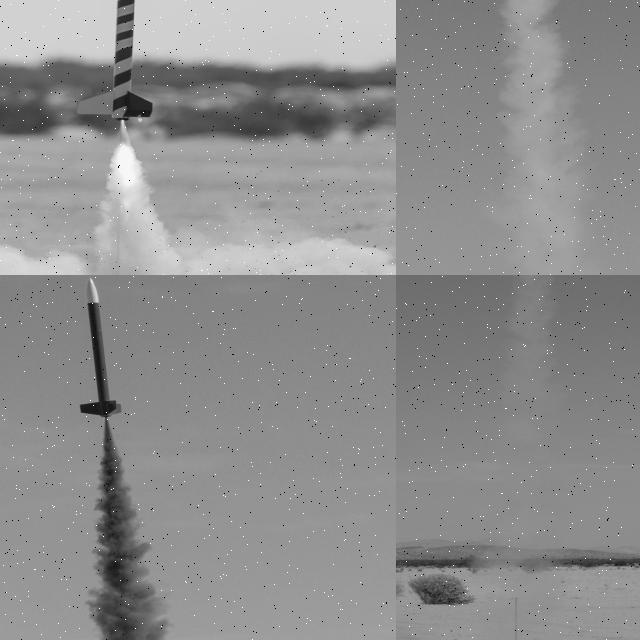Rocket: (73, 0, 154, 123), (78, 276, 124, 417)
